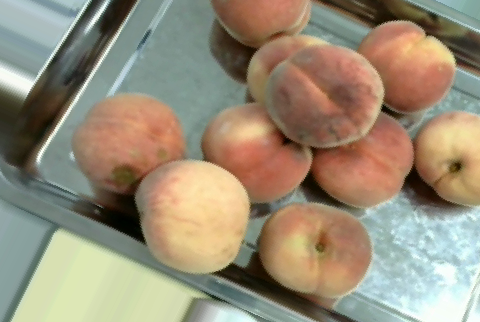Peach: (265, 42, 385, 149), (134, 160, 248, 272), (72, 91, 186, 196), (201, 100, 313, 202), (257, 202, 373, 297), (311, 109, 415, 206), (358, 18, 456, 113), (411, 109, 480, 206), (207, 0, 313, 47)
